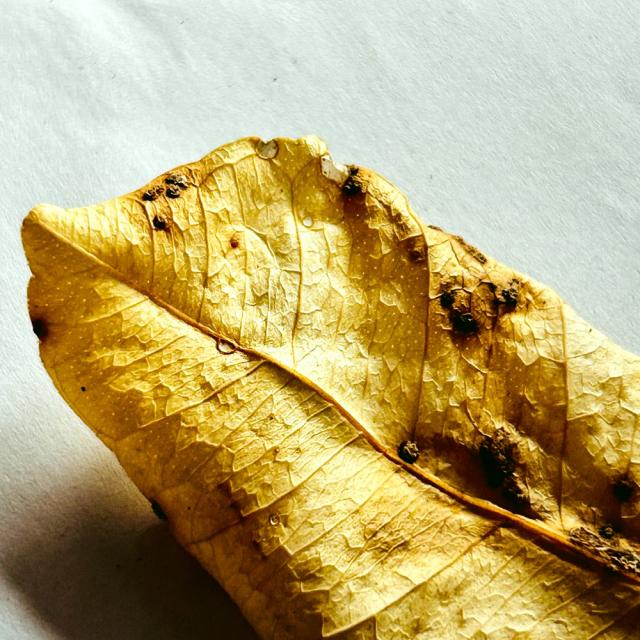DryLeaf_Lemon: (22, 136, 639, 639)
